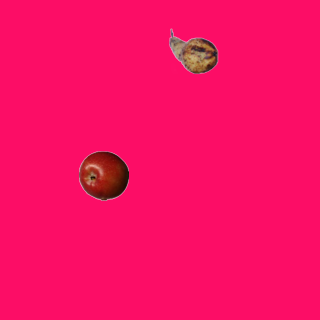Apple Braeburn: (78, 150, 128, 200)
Pear Abate: (168, 26, 218, 76)
